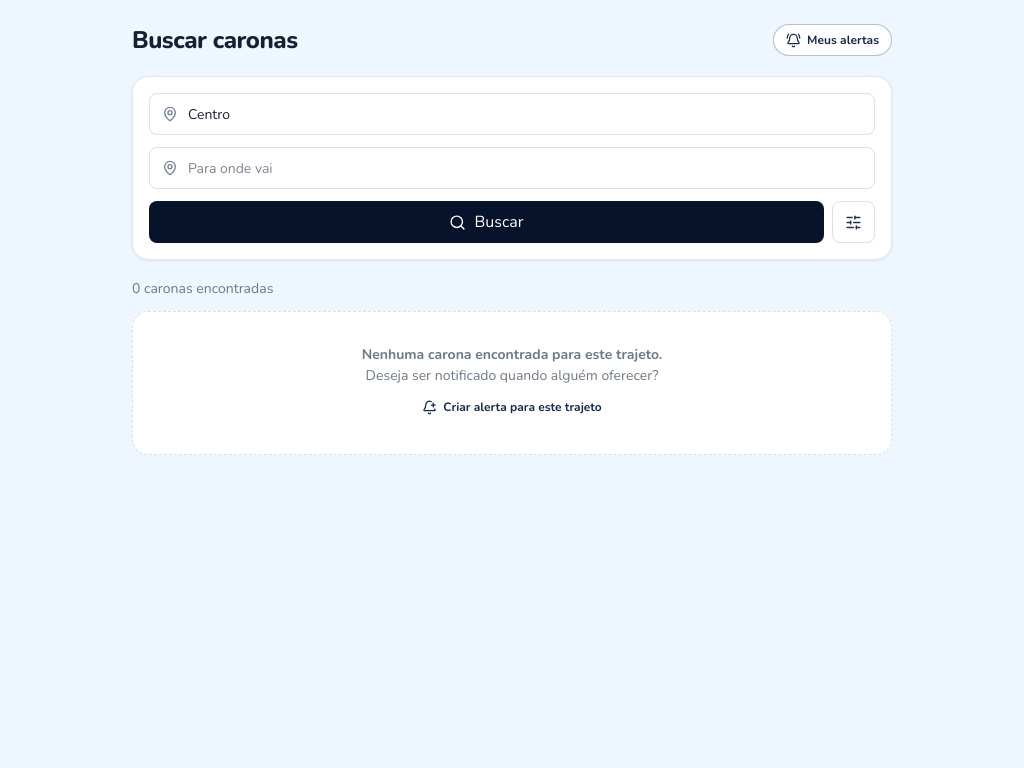
painel de filtros › alterna a visibilidade do painel de filtros
Expected: the text "Vagas mínimas" is not shown
Click the button named "Filtros".
click(854, 222)  # box [832, 201, 875, 243]
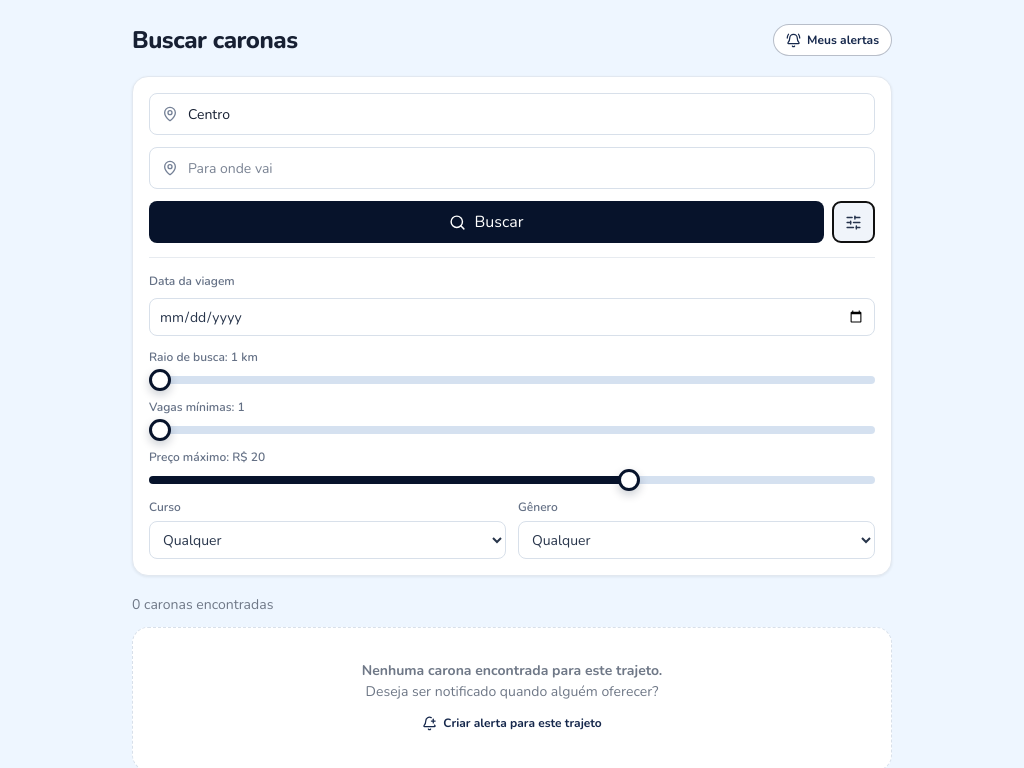
Expected: the button named "Filtros" is expanded, [832, 201, 875, 243]
Expected: the text "Vagas mínimas: 1" is shown, [149, 399, 245, 415]
